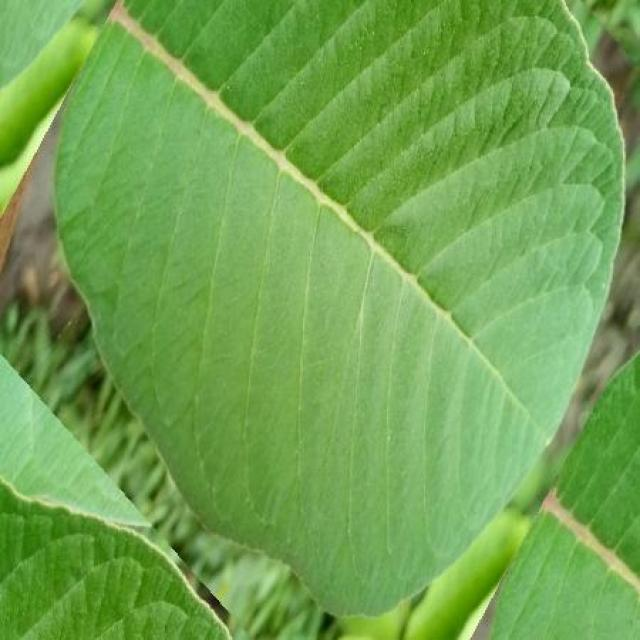Disease Free: (58, 0, 622, 612), (491, 355, 640, 639), (0, 486, 231, 640)
